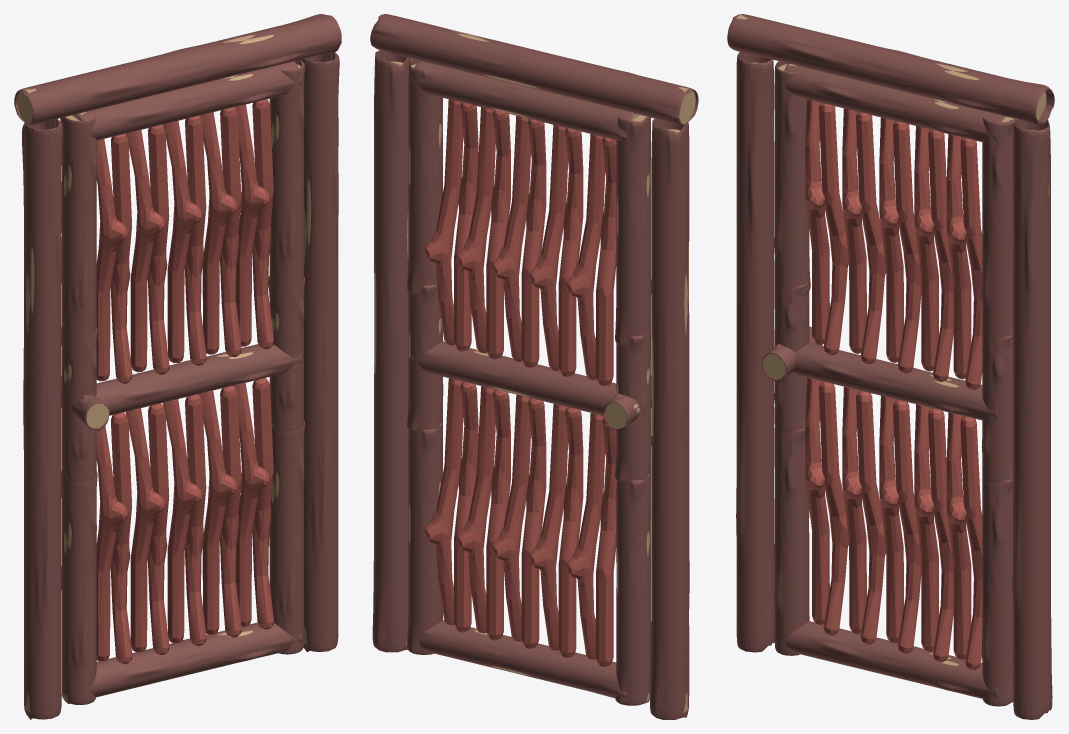
Rendered from door.fbx.
3 views of the same model, side by side, from view 1: azimuth 30°, elevation 25°; view 2: azimuth 150°, elevation 25°; view 3: azimuth 330°, elevation 25° (orthographic).
Parts seen in each view (by area): view 1: door, frame; view 2: door, frame; view 3: door, frame.
Part boxes in pixels (x1,y1,x2,y2): door: (60, 60, 305, 704); frame: (14, 14, 341, 719); door: (407, 59, 651, 705); frame: (370, 14, 698, 719); door: (762, 61, 1015, 706); frame: (727, 14, 1054, 719).
Bounding box in the file's own units: 434 × 830 × 87.64.
